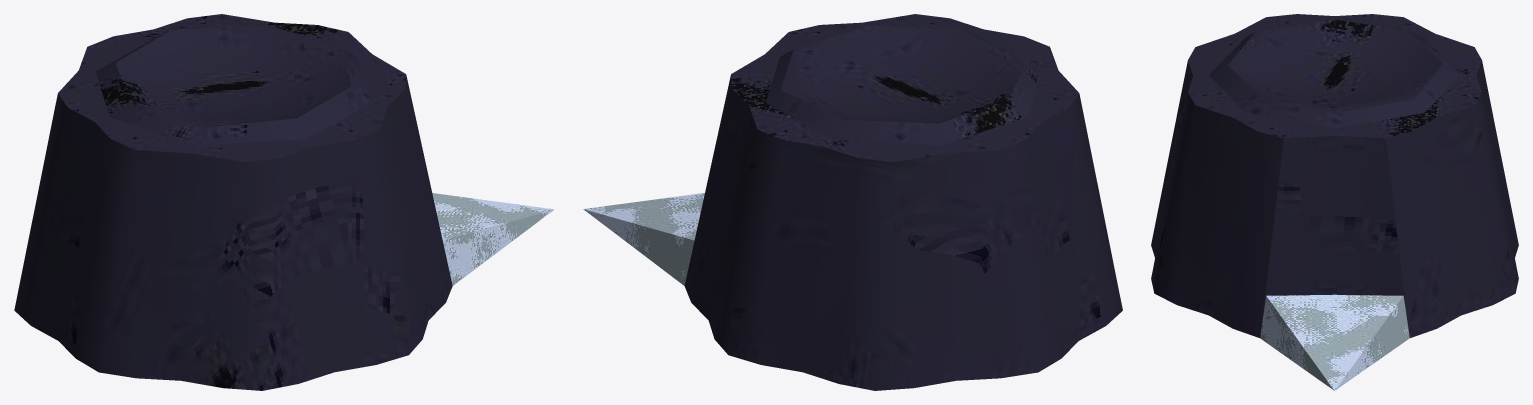
Rendered from KnobWithIndicator.glb.
3 renders of one model, left to right at view 1: azimuth 30°, elevation 25°; view 2: azimuth 150°, elevation 25°; view 3: azimuth 270°, elevation 25°, orthographic. The views are drawn at different scales.
Visible parts, largest first — view 1: KnobWithIndicator; view 2: KnobWithIndicator; view 3: KnobWithIndicator.
Part boxes in pixels (x1,y1,x2,y2): KnobWithIndicator: (14, 14, 554, 390); KnobWithIndicator: (583, 14, 1122, 390); KnobWithIndicator: (1151, 14, 1518, 390).
Size of the model in its own units: 2.47 by 1.05 by 1.77.
1 material, 1 textured.
